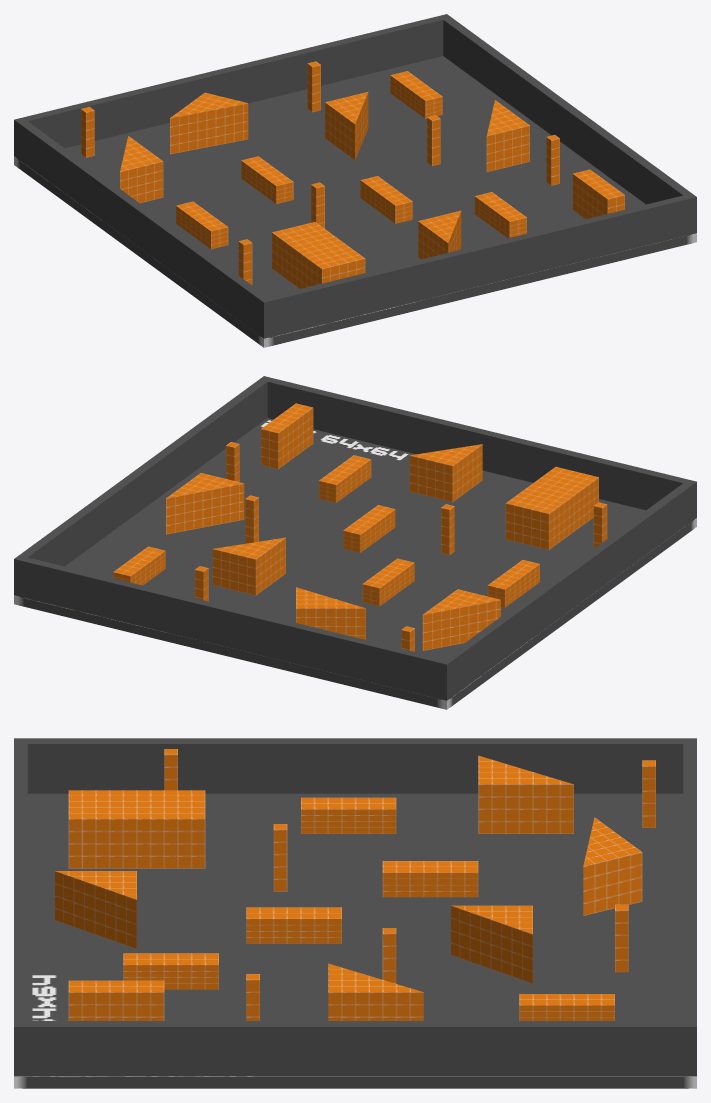
The model's file is map3.obj.
3 renders of one model, top to bottom at view 1: azimuth 30°, elevation 25°; view 2: azimuth 150°, elevation 25°; view 3: azimuth 270°, elevation 25°, orthographic. The views are drawn at different scales.
Parts seen in each view (by area): view 1: Cube, Cube__4_, Cube__2_, Cube__1_, Cube__3_, PolyShape__3_, PolyShape__9_, PolyShape, PolyShape__1_, PolyShape__7_, PolyShape__11_, PolyShape__10_ (+11 smaller); view 2: Cube, Cube__2_, Cube__4_, Cube__1_, Cube__3_, PolyShape__3_, PolyShape, PolyShape__1_, PolyShape__10_, PolyShape__7_, PolyShape__11_, PolyShape__9_ (+9 smaller); view 3: Cube, Cube__3_, Cube__1_, PolyShape__3_, PolyShape__7_, PolyShape__1_, PolyShape__10_, Cube__2_, PolyShape__9_, PolyShape, PolyShape__11_, Cube__4_ (+11 smaller).
Part boxes in pixels (box(x1,y1,x2,y2)): Cube: box(14, 56, 696, 347); Cube__4_: box(259, 195, 688, 338); Cube__2_: box(23, 14, 451, 148); Cube__1_: box(14, 117, 267, 334); Cube__3_: box(443, 17, 696, 235); PolyShape__3_: box(272, 222, 365, 288); PolyShape__9_: box(170, 92, 248, 154); PolyShape: box(486, 100, 529, 171); PolyShape__1_: box(325, 92, 368, 159); PolyShape__7_: box(120, 136, 163, 202); PolyShape__11_: box(572, 169, 624, 219); PolyShape__10_: box(418, 210, 461, 259); Cube: box(14, 418, 696, 709); Cube__2_: box(14, 555, 442, 698); Cube__4_: box(267, 378, 696, 521); Cube__1_: box(438, 483, 691, 700); Cube__3_: box(19, 376, 272, 566); PolyShape__3_: box(505, 467, 598, 549); PolyShape: box(166, 473, 244, 534); PolyShape__1_: box(212, 537, 285, 595); PolyShape__10_: box(409, 444, 482, 502); PolyShape__7_: box(422, 589, 500, 650); PolyShape__11_: box(261, 403, 313, 469); PolyShape__9_: box(296, 587, 365, 639); Cube: box(14, 793, 696, 1088); Cube__3_: box(14, 1021, 683, 1076); Cube__1_: box(27, 738, 696, 793); PolyShape__3_: box(68, 790, 205, 868); PolyShape__7_: box(478, 755, 573, 833); PolyShape__1_: box(451, 905, 532, 983); PolyShape__10_: box(55, 871, 136, 949); Cube__2_: box(683, 744, 696, 1076); PolyShape__9_: box(583, 817, 642, 915); PolyShape: box(328, 963, 423, 1020); PolyShape__11_: box(68, 980, 164, 1020); Cube__4_: box(14, 738, 27, 1020).
Size of the model in its own units: 50 by 6 by 50.
